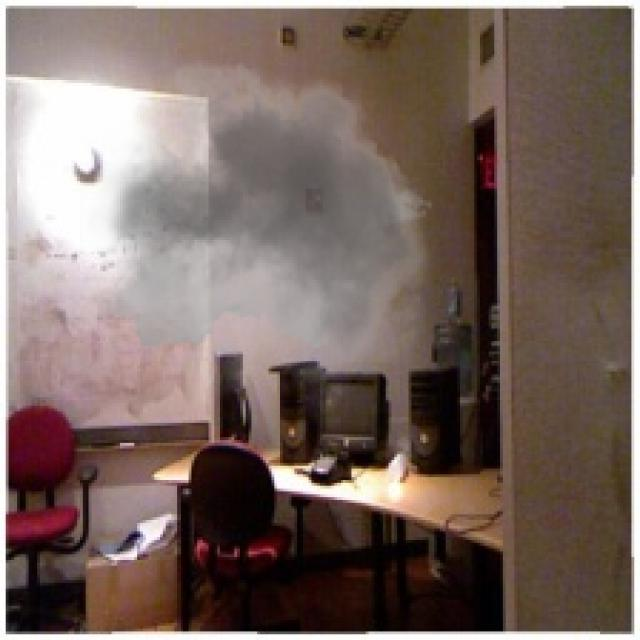smoke: (80, 43, 446, 426)
